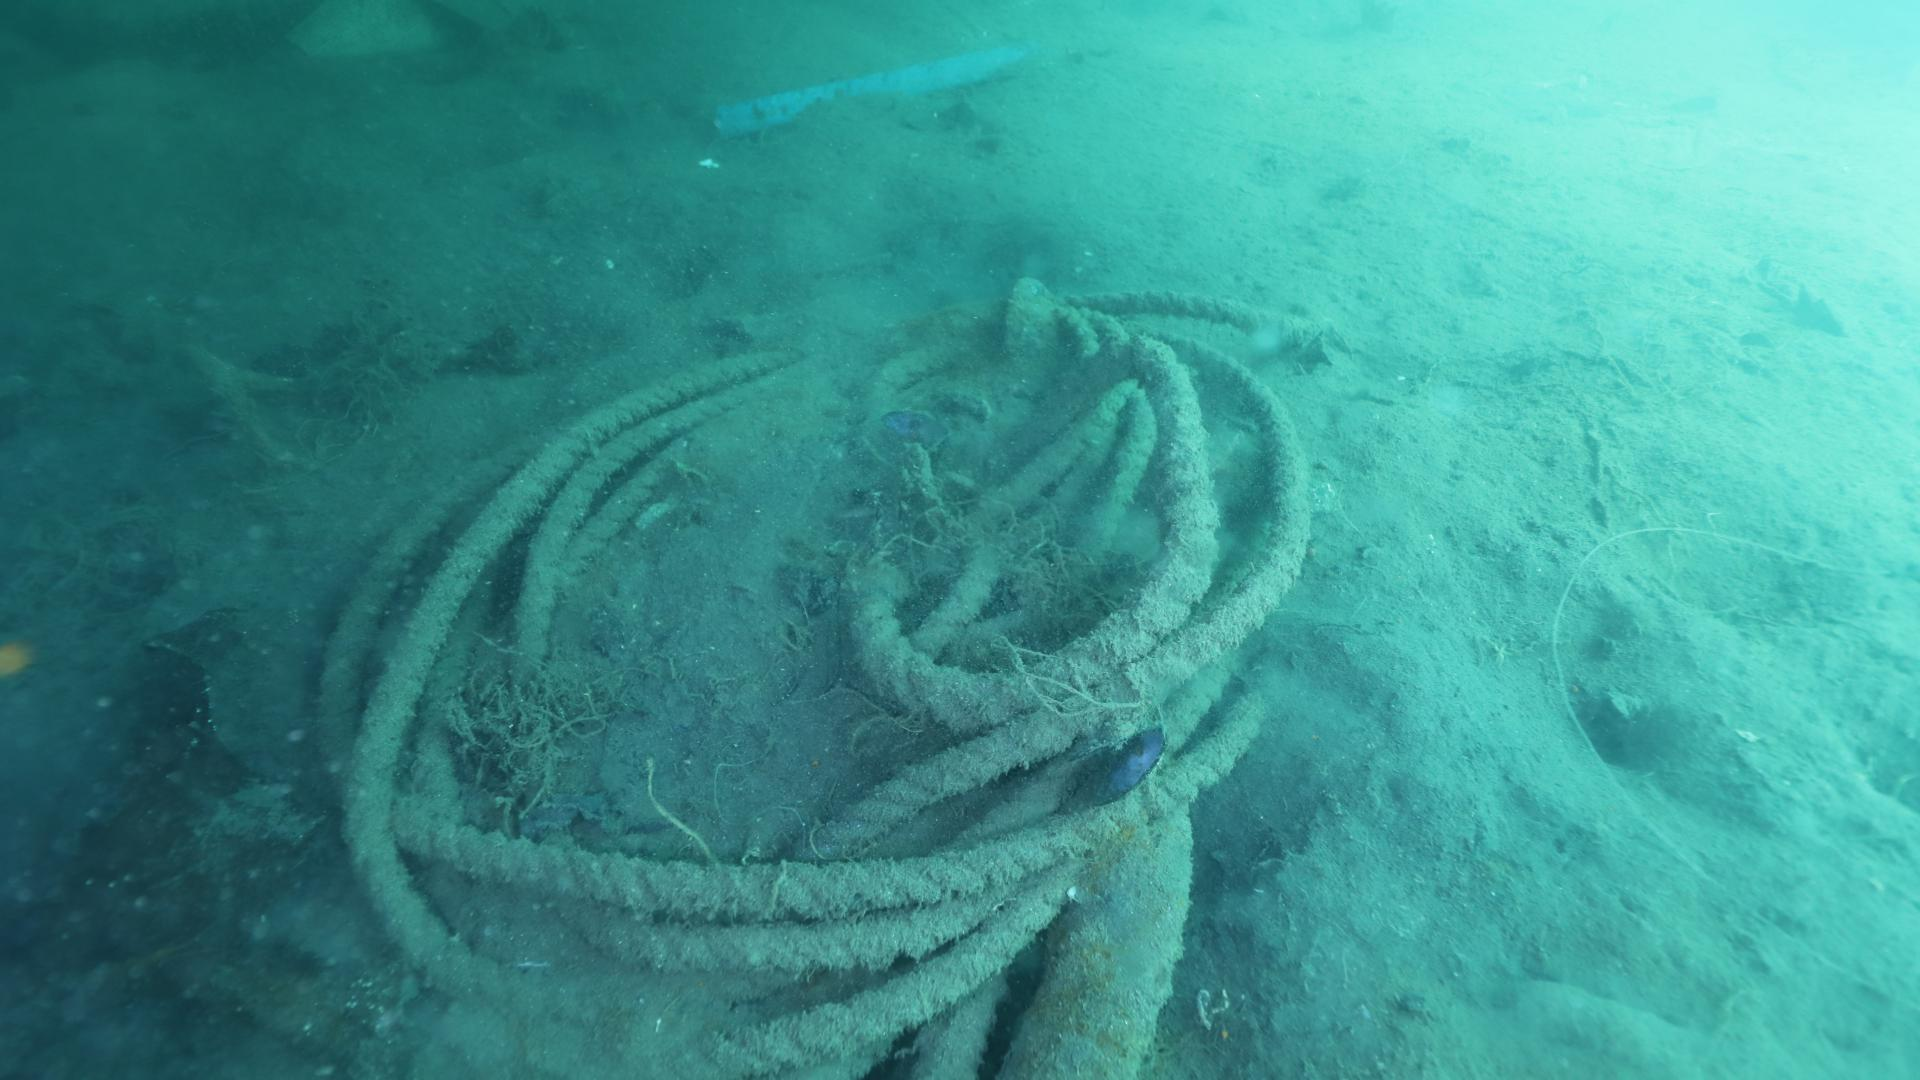bundle of ropes: (310, 286, 1315, 1080)
